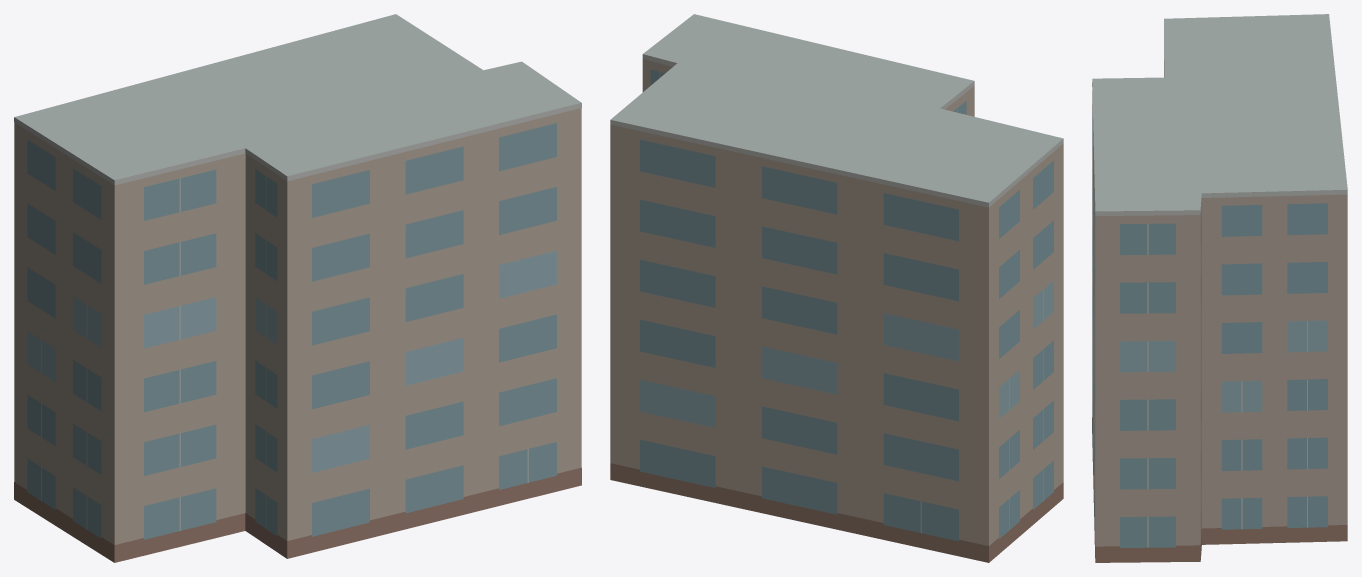
The model's file is survey-upis-32749069.glb.
The picture shows the model from 3 angles, left to right: view 1: azimuth 30°, elevation 25°; view 2: azimuth 150°, elevation 25°; view 3: azimuth 270°, elevation 25°; orthographic projection. The views are drawn at different scales.
Parts seen in each view (by area): view 1: survey-upis-32749069.tmp; view 2: survey-upis-32749069.tmp; view 3: survey-upis-32749069.tmp.
Part boxes in pixels (x1,y1,x2,y2): survey-upis-32749069.tmp: [14, 14, 581, 562]; survey-upis-32749069.tmp: [610, 14, 1063, 562]; survey-upis-32749069.tmp: [1092, 14, 1347, 562].
Size of the model in its own units: 22.06 by 18.3 by 12.07.
